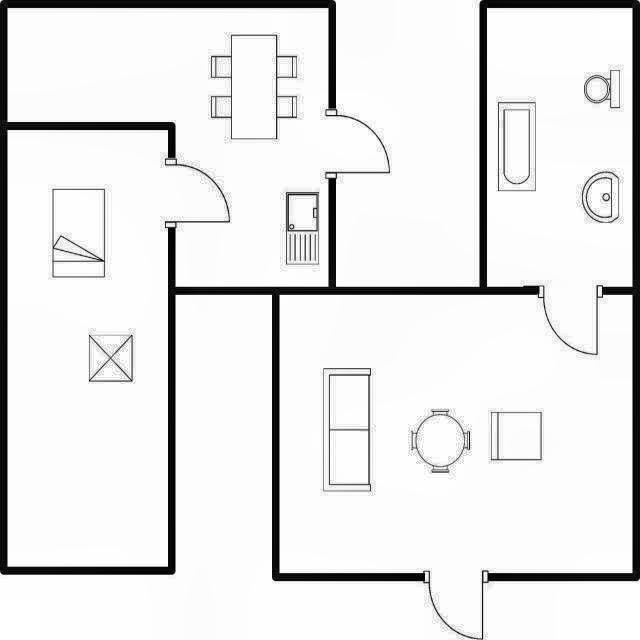room: (280, 295, 633, 573), (8, 8, 329, 287), (8, 130, 168, 567), (487, 8, 632, 287)
